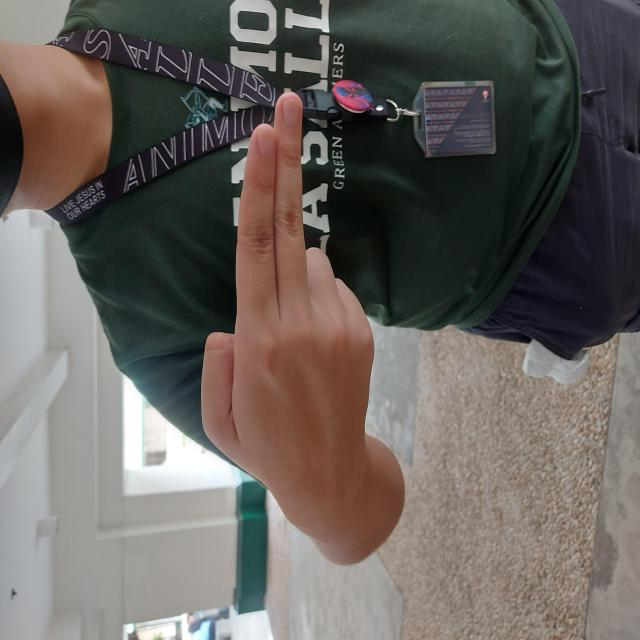H: (127, 198, 548, 376)
